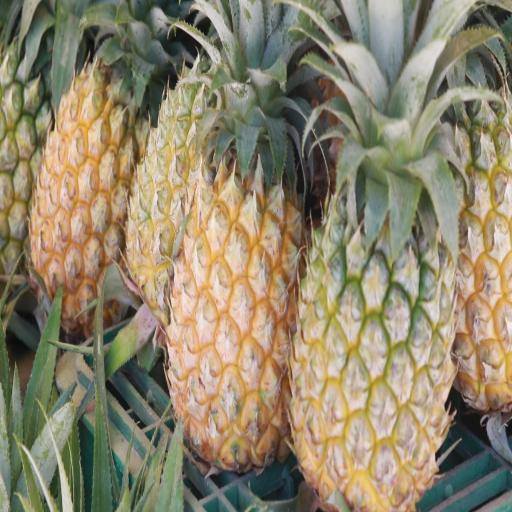------------------------------: (286, 57, 460, 512)
Pineapple - v8 v1: (162, 86, 314, 464), (25, 0, 151, 333), (119, 0, 233, 319)
